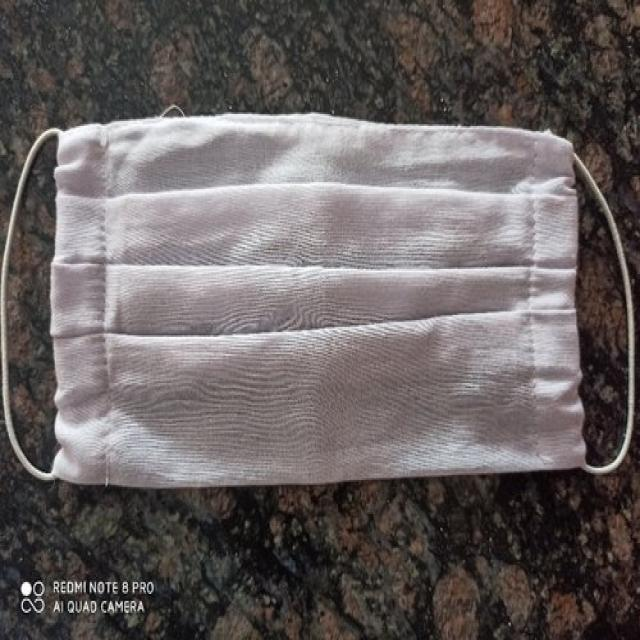face mask: (8, 121, 635, 482)
